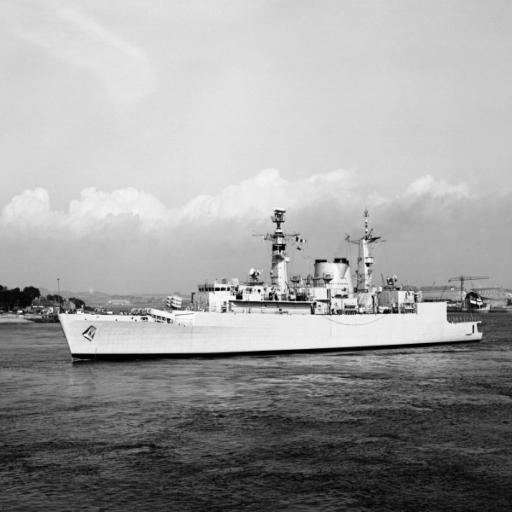Fragata: (56, 191, 487, 370)
